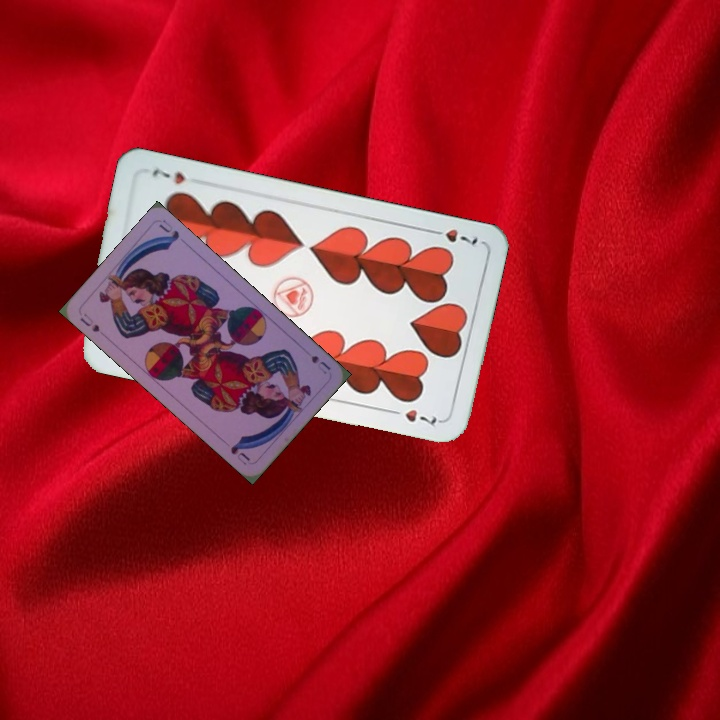H7: (424, 225, 481, 248)
SU: (307, 351, 333, 377), (76, 309, 102, 335)
